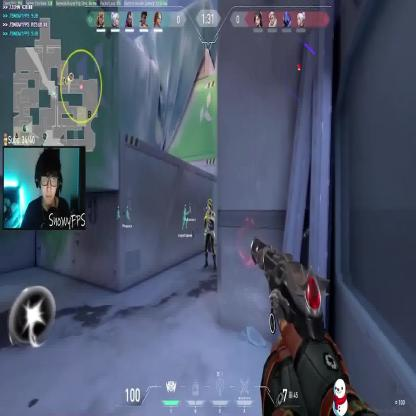enemy: (202, 198, 216, 270)
enemy_head: (207, 198, 212, 212)
